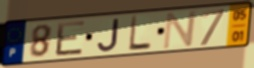7: (200, 9, 226, 47)
8: (28, 23, 53, 60)
E: (55, 19, 87, 58)
J: (96, 17, 121, 54)
L: (127, 15, 153, 53)
N: (161, 9, 199, 51)
